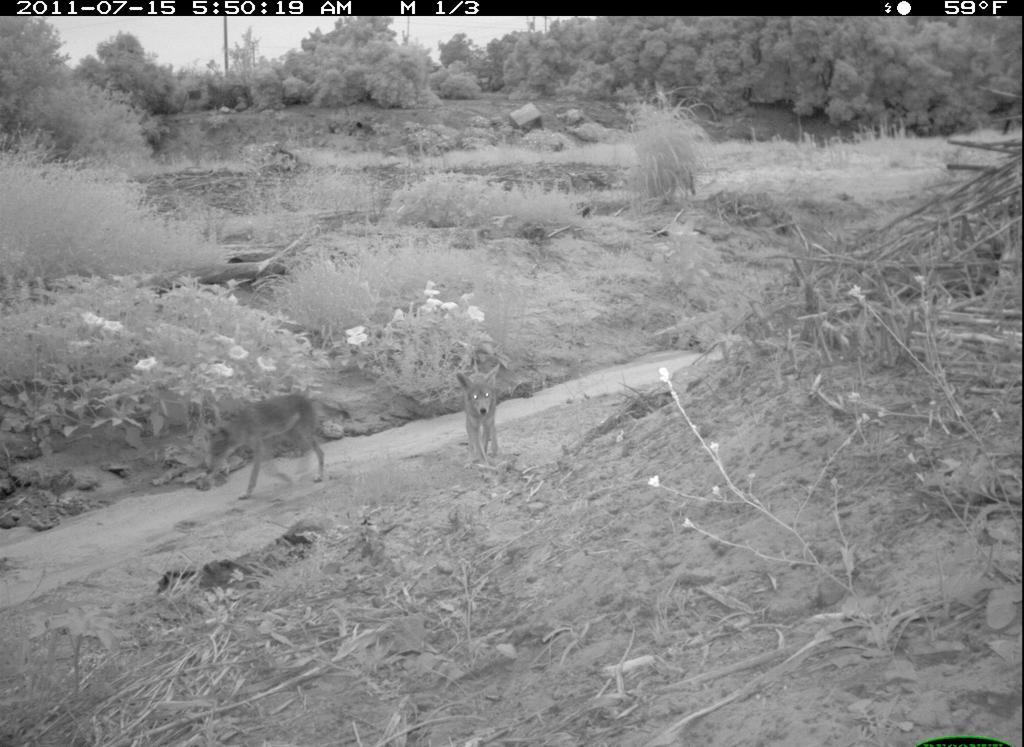coyote: (186, 396, 356, 510), (456, 354, 513, 470)
